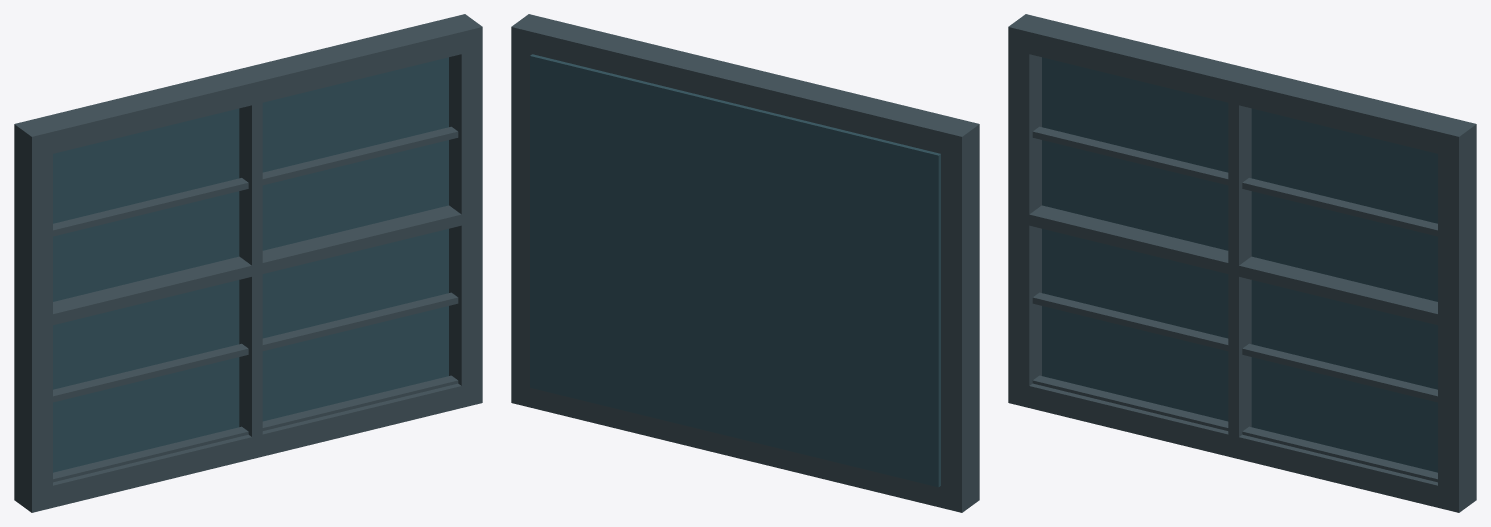
File: window_21.glb
3 renders of one model, left to right at view 1: azimuth 30°, elevation 25°; view 2: azimuth 150°, elevation 25°; view 3: azimuth 330°, elevation 25°, orthographic.
Visible parts, largest first — view 1: window_21; view 2: window_21; view 3: window_21.
Part boxes in pixels (left/top/right/bottom): window_21: left=14, top=14, right=482, bottom=512; window_21: left=511, top=14, right=979, bottom=512; window_21: left=1008, top=14, right=1476, bottom=512.
Bounding box in the file's own units: 1.92 × 1.53 × 0.1475.
